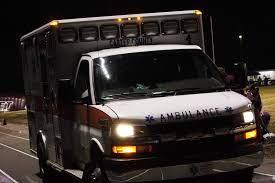ambulance_off: (21, 8, 265, 181)
